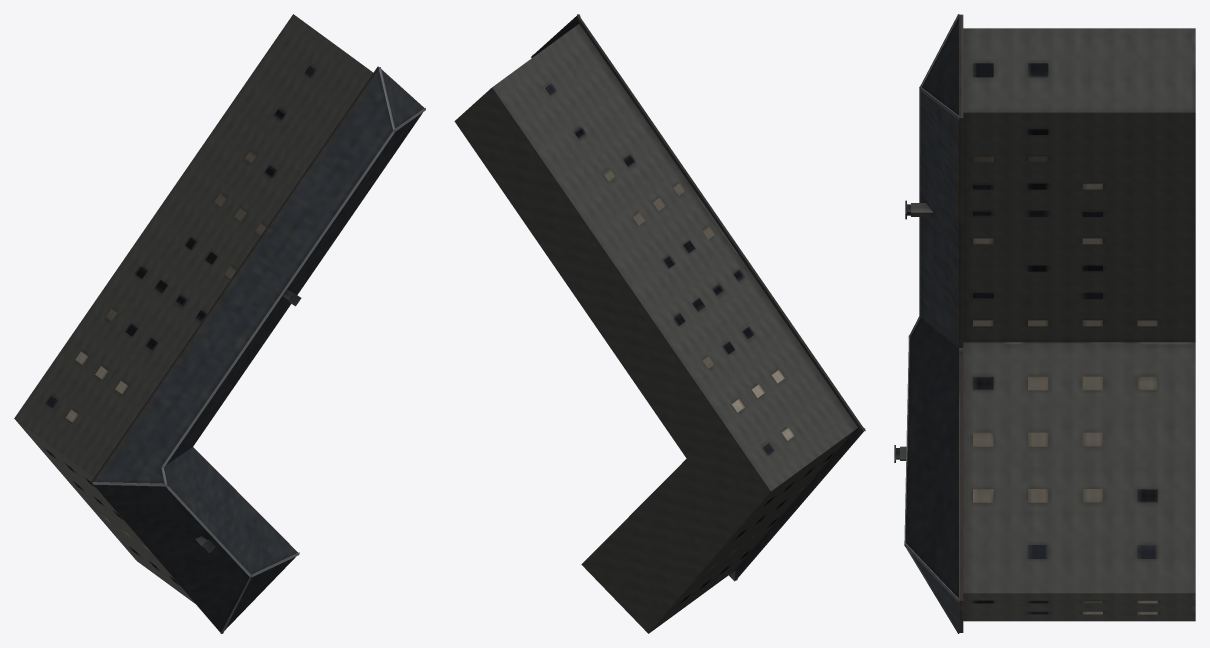
Rendered from house_b0137.obj.
3 views of the same model, side by side, from view 1: azimuth 30°, elevation 25°; view 2: azimuth 150°, elevation 25°; view 3: azimuth 270°, elevation 25° (orthographic). The views are drawn at different scales.
Visible parts, largest first — view 1: house_b0137; view 2: house_b0137; view 3: house_b0137.
Part boxes in pixels (x1,y1,x2,y2): house_b0137: (14,14,425,633); house_b0137: (454,14,865,633); house_b0137: (894,14,1195,633).
Bounding box in the file's own units: 28.91 × 43.77 × 16.52.
1 material, 1 textured.
